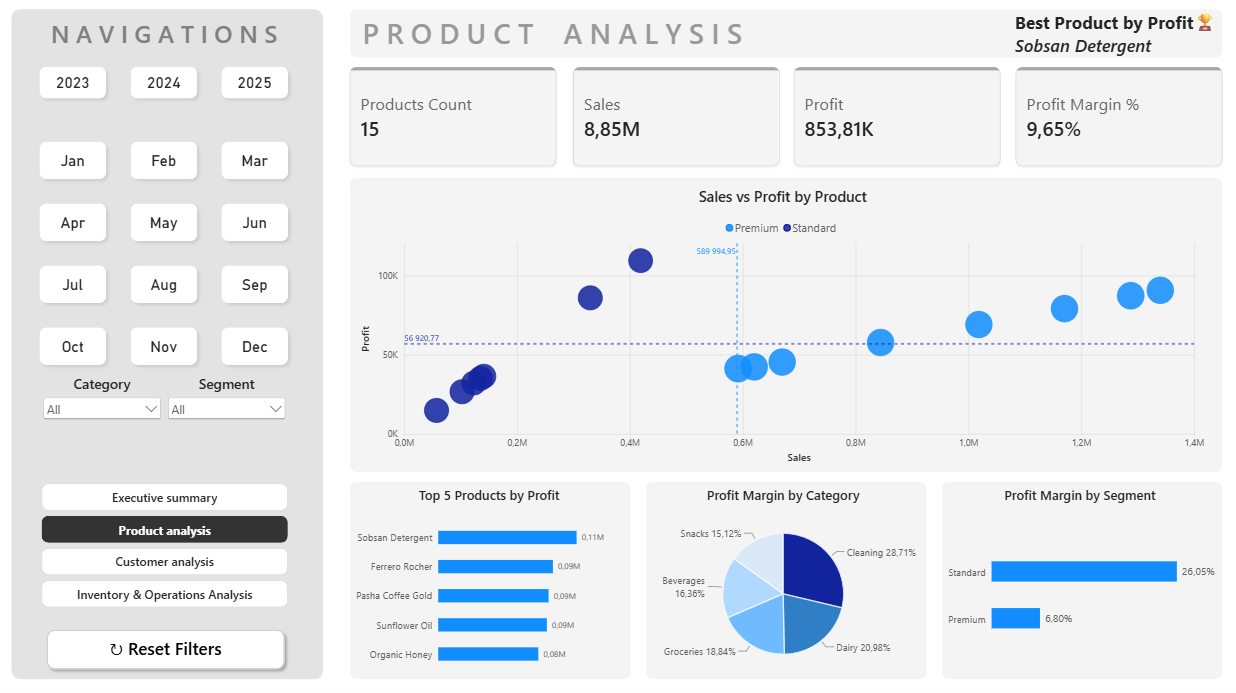

What the dashboard file says about the page in this screenshot:
{"tool":"powerbi","page":{"name":"Product analysis","canvas":[1920,1080],"ordinal":1},"visuals":[{"type":"advancedSlicerVisual","fields":{"Values":["DimDate.MonthName"]},"box":[32.5,210,450,372.5],"z":0},{"type":"advancedSlicerVisual","fields":{"Values":["DimDate.Year"]},"box":[32.5,92.5,450,73.3],"z":1000},{"type":"textbox","box":[64.2,27.5,385,55.8],"z":2000},{"type":"textbox","box":[564.2,23.3,643.3,60],"z":3000},{"type":"actionButton","box":[68.3,968.6,385,77.5],"z":4000},{"type":"cardVisual","fields":{"Data":["_Measures.Products Count"]},"box":[540,100,332.5,165],"z":5000},{"type":"cardVisual","fields":{"Data":["_Measures.Sales"]},"box":[885,100,332.5,165],"z":6000},{"type":"cardVisual","fields":{"Data":["_Measures.Profit"]},"box":[1227.5,100,332.5,165],"z":7000},{"type":"cardVisual","fields":{"Data":["_Measures.Profit Margin %"]},"box":[1572.5,100,332.5,165],"z":8000},{"type":"scatterChart","title":"Sales vs Profit by Product","fields":{"X":["_Measures.Sales"],"Y":["_Measures.Profit"],"Size":["Sum(FactSales.Quantity)"],"Category":["DimProduct.ProductName"],"Series":["DimProduct.Segment"]},"box":[547.5,277.5,1340,460],"z":9000},{"type":"clusteredBarChart","title":"Top 5 Products by Profit","fields":{"Category":["DimProduct.ProductName"],"Y":["_Measures.Profit"]},"box":[547.5,755,430,290],"z":10000},{"type":"pieChart","title":"Profit Margin by Category","fields":{"Category":["DimProduct.Category"],"Y":["_Measures.Profit Margin %"]},"box":[1002.5,755,430,290],"z":11000},{"type":"clusteredBarChart","title":"Profit Margin by Segment","fields":{"Y":["_Measures.Profit Margin %"],"Category":["DimProduct.Segment"]},"box":[1467.5,755,420,290],"z":12000},{"type":"slicer","title":"Category","fields":{"Values":["DimProduct.Category"]},"box":[65,582.5,192.5,85],"z":13000},{"type":"slicer","title":"Segment","fields":{"Values":["DimProduct.Segment"]},"box":[257.5,582.5,192.5,85],"z":14000},{"type":"textbox","box":[1576.1,19.5,329.4,73.2],"z":15000},{"type":"pageNavigator","box":[67.5,750,382.5,195],"z":16000}]}

Visuals, with their boxes in screenshot pixels (x1, y1, x2, y2), scaled from the page's 1920x1080 canvas onto the 1236x693 screenshot:
advancedSlicerVisual - DimDate.MonthName: Rect(21, 135, 311, 374)
advancedSlicerVisual - DimDate.Year: Rect(21, 59, 311, 106)
textbox: Rect(41, 18, 289, 53)
textbox: Rect(363, 15, 777, 53)
actionButton: Rect(44, 622, 292, 671)
cardVisual - _Measures.Products Count: Rect(348, 64, 562, 170)
cardVisual - _Measures.Sales: Rect(570, 64, 784, 170)
cardVisual - _Measures.Profit: Rect(790, 64, 1004, 170)
cardVisual - _Measures.Profit Margin %: Rect(1012, 64, 1226, 170)
"Sales vs Profit by Product" scatterChart: Rect(352, 178, 1215, 473)
"Top 5 Products by Profit" clusteredBarChart: Rect(352, 484, 629, 671)
"Profit Margin by Category" pieChart: Rect(645, 484, 922, 671)
"Profit Margin by Segment" clusteredBarChart: Rect(945, 484, 1215, 671)
"Category" slicer: Rect(42, 374, 166, 428)
"Segment" slicer: Rect(166, 374, 290, 428)
textbox: Rect(1015, 13, 1227, 59)
pageNavigator: Rect(43, 481, 290, 606)
